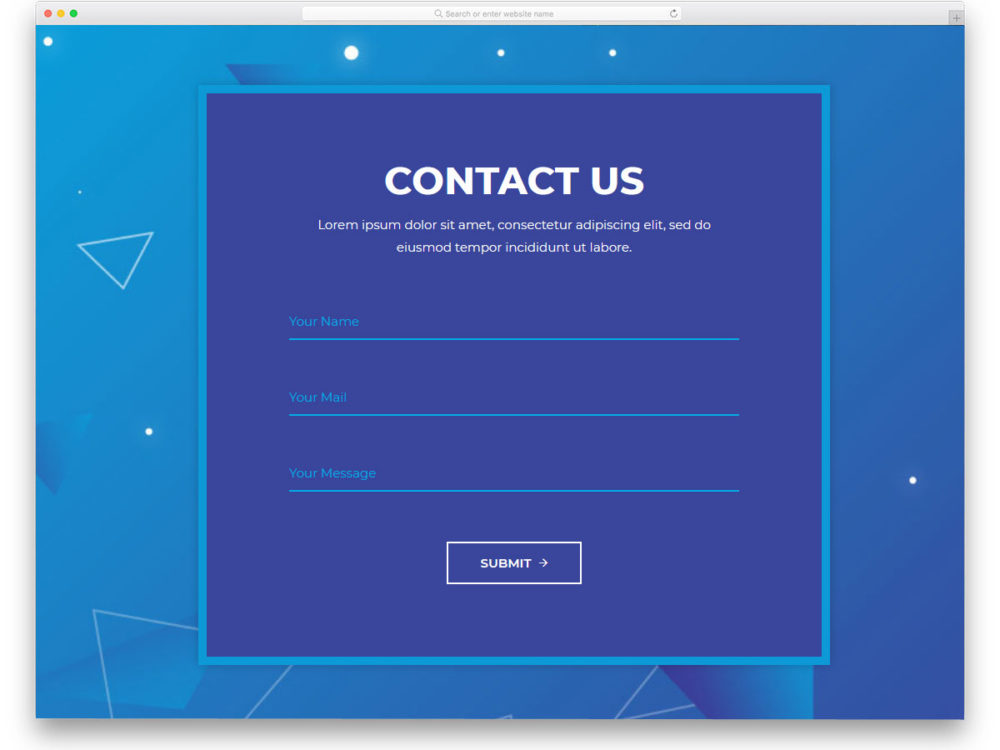button: (443, 539, 586, 587)
field_line: (286, 303, 746, 344), (286, 461, 743, 496), (286, 387, 742, 418)
